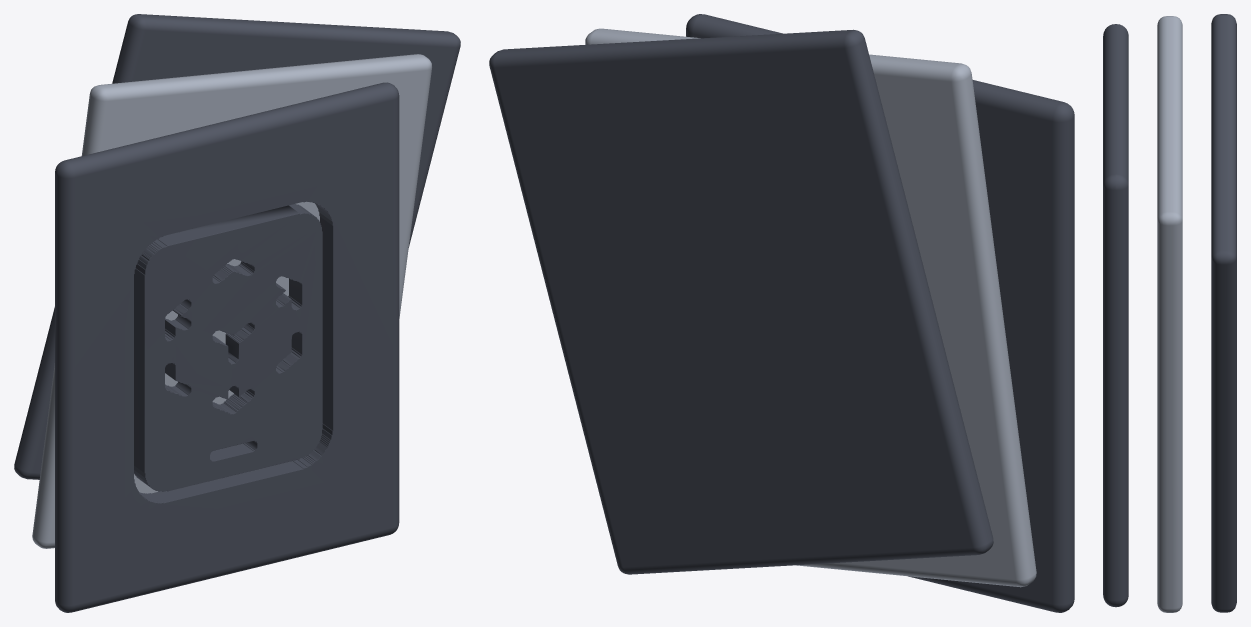
File: slate-object.glb
3 renders of one model, left to right at view 1: azimuth 30°, elevation 25°; view 2: azimuth 150°, elevation 25°; view 3: azimuth 270°, elevation 25°, orthographic. The views are drawn at different scales.
Visible parts, largest first — view 1: Slate slab 0, Slate slab 1, Slate slab 2; view 2: Slate slab 2, Slate slab 1, Slate slab 0; view 3: Slate slab 2, Slate slab 1, Slate slab 0.
Boxes of the visible parts, left/top/right/bottom form: Slate slab 0: left=55, top=82, right=399, bottom=612; Slate slab 1: left=32, top=54, right=432, bottom=548; Slate slab 2: left=14, top=14, right=460, bottom=479; Slate slab 2: left=489, top=29, right=993, bottom=574; Slate slab 1: left=585, top=28, right=1036, bottom=587; Slate slab 0: left=686, top=14, right=1074, bottom=612; Slate slab 2: left=1211, top=14, right=1236, bottom=612; Slate slab 1: left=1157, top=16, right=1182, bottom=612; Slate slab 0: left=1103, top=24, right=1128, bottom=607.
Bounding box in the file's own units: 3.56 × 3.92 × 0.9402.
